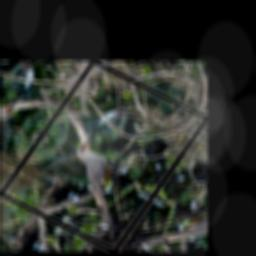Cuckoo: (41, 130, 163, 237)
